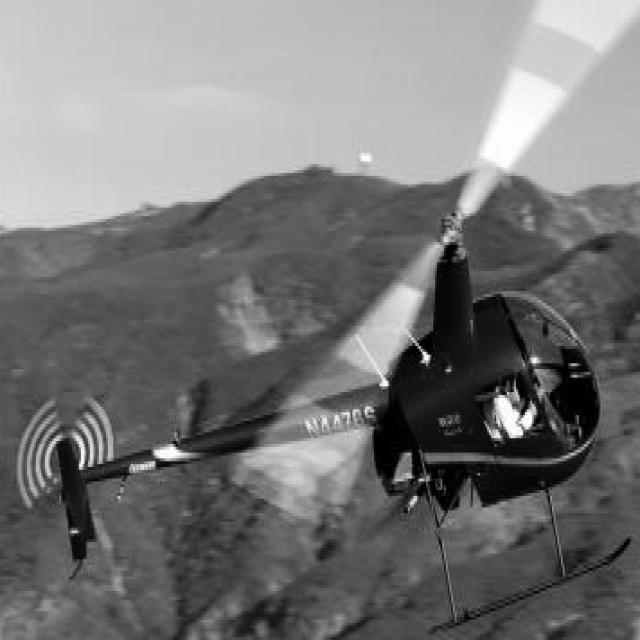helicopter: (26, 73, 640, 627)
